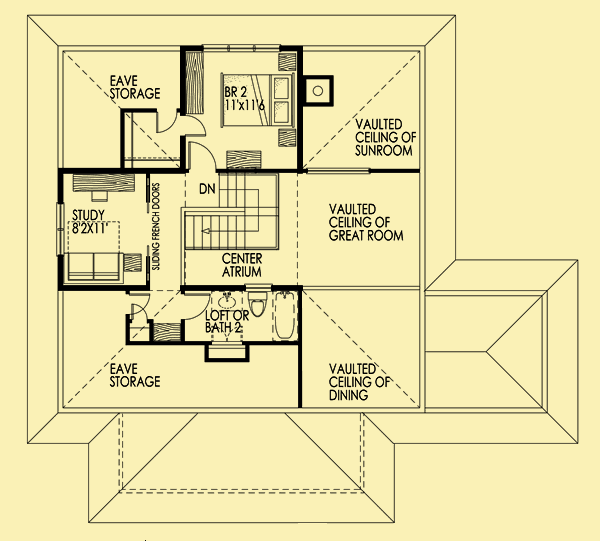bed: (219, 71, 297, 127)
door: (182, 288, 212, 322), (187, 141, 218, 173), (178, 112, 207, 138), (152, 107, 178, 134), (128, 301, 149, 323)
large_sink: (243, 290, 268, 319)
large_sofa: (64, 249, 130, 289)
small_sink: (214, 290, 239, 313)
stairs: (179, 174, 279, 252)
tub: (271, 287, 300, 344)
window: (200, 40, 282, 54), (53, 203, 66, 261), (304, 166, 375, 176), (206, 339, 246, 349)
